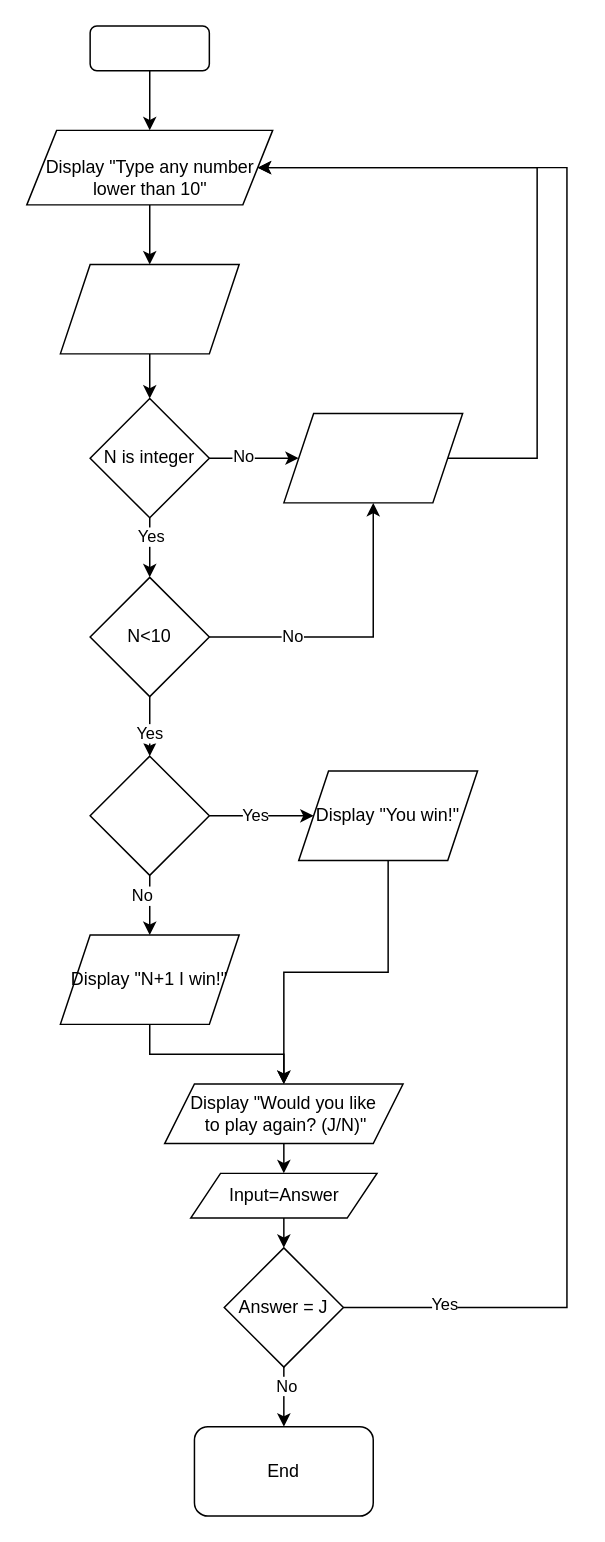
The diagram is 605 pixels wide and 1542 high, and some of its shapes have lost their labels. Each missing label, with the centre of its shape:
Display "This is not a valid input": point 372,457
N=9: point 149,815
N=Input: point 149,308
Start: point 149,48
